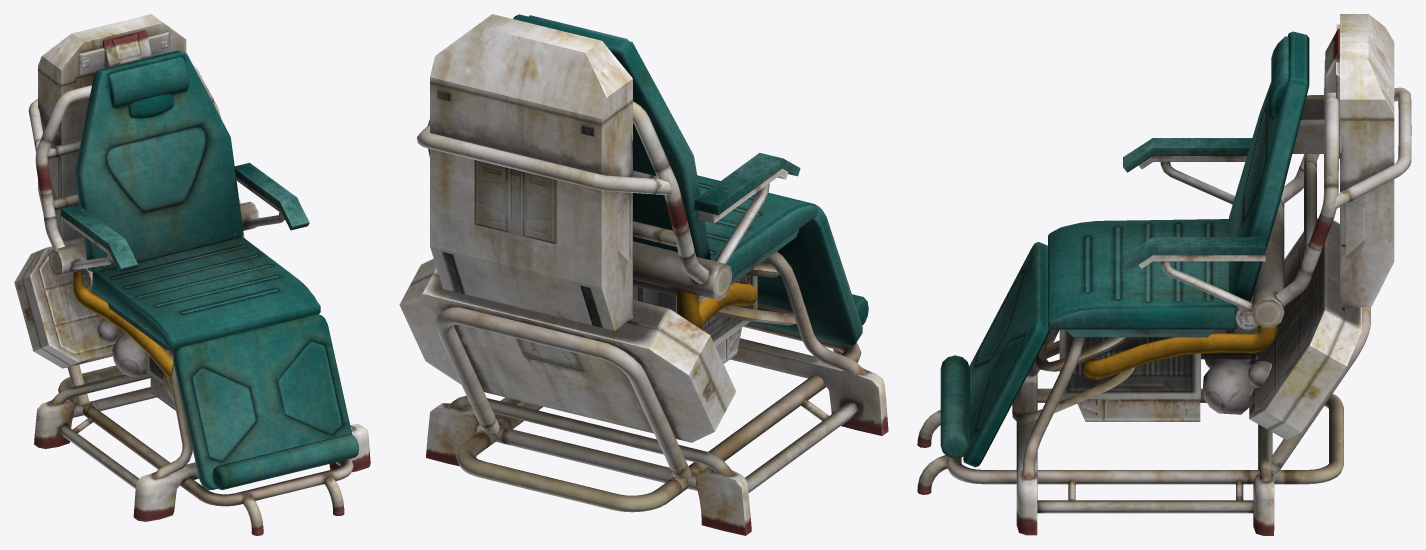
The model's file is chair_scanning_room_theta.DAE.
The picture shows the model from 3 angles, left to right: view 1: azimuth 30°, elevation 25°; view 2: azimuth 150°, elevation 25°; view 3: azimuth 270°, elevation 25°; orthographic projection. The views are drawn at different scales.
Visible parts, largest first — view 1: chair_scanning_room_theta; view 2: chair_scanning_room_theta; view 3: chair_scanning_room_theta.
Part boxes in pixels (<box>): chair_scanning_room_theta: <box>14,14,370,535</box>; chair_scanning_room_theta: <box>399,14,888,535</box>; chair_scanning_room_theta: <box>917,14,1411,535</box>.
Size of the model in its own units: 0.9923 by 1.47 by 1.53.
